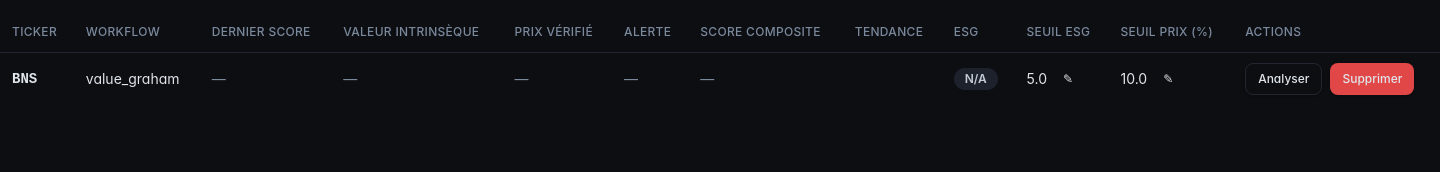
Test: WatchlistTable — seuil ESG édition inline › click sur le bouton crayon ouvre l'input d'édition
Click the button with test id "esg-threshold-edit-btn" at coordinates (1068, 78), box left=1051, top=62, right=1085, bottom=94
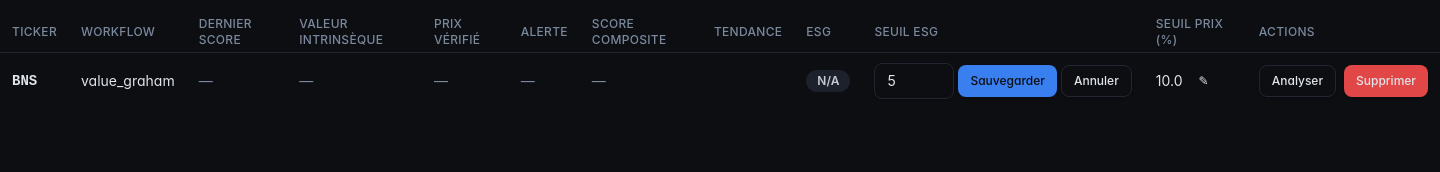
Expected: the number field with test id "esg-threshold-input" is shown, left=874, top=62, right=954, bottom=98
Expected: the button with test id "esg-threshold-save-btn" is shown, left=958, top=64, right=1057, bottom=96
Expected: the button with test id "esg-threshold-cancel-btn" is shown, left=1061, top=64, right=1132, bottom=96
